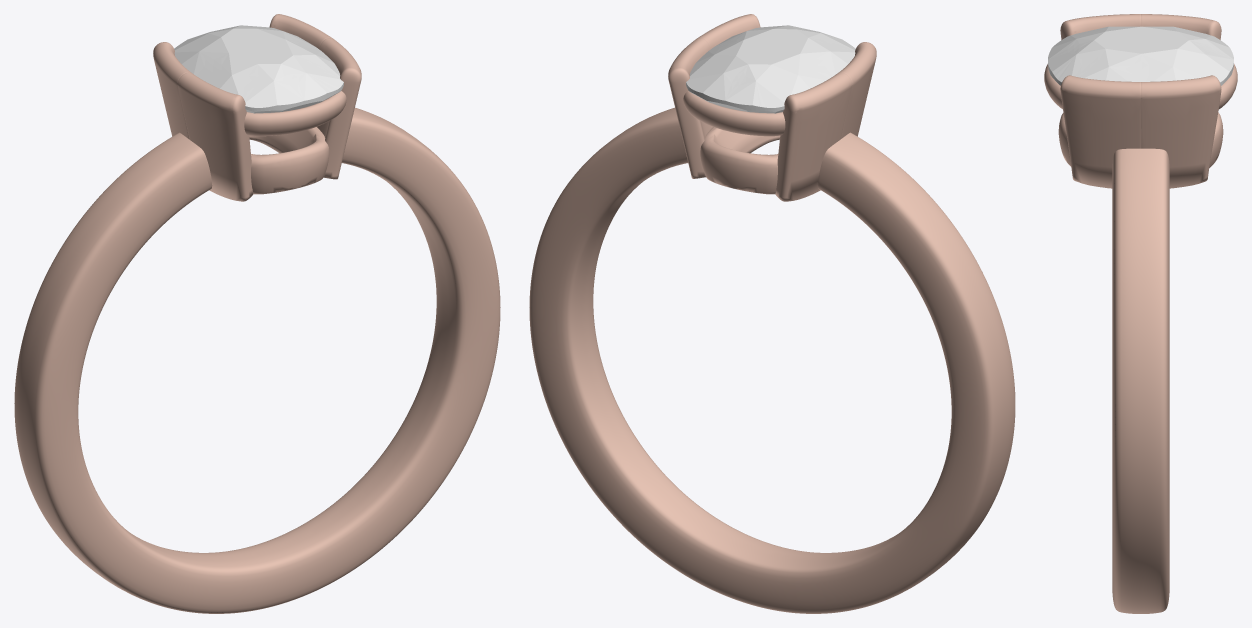
Rendered from diamond-cushion-rosegold-halfmoonbezel-straightband-nosidestones.glb.
3 views of the same model, side by side, from view 1: azimuth 30°, elevation 25°; view 2: azimuth 150°, elevation 25°; view 3: azimuth 270°, elevation 25° (orthographic).
Visible parts, largest first — view 1: metal, stone; view 2: metal, stone; view 3: metal, stone.
Part boxes in pixels (box(x1,y1,x2,y2)): metal: box(14, 14, 500, 613); stone: box(174, 25, 343, 113); metal: box(529, 14, 1015, 613); stone: box(686, 25, 855, 113); metal: box(1044, 14, 1237, 613); stone: box(1048, 26, 1233, 85).
Size of the model in its own units: 20.49 by 23.24 by 7.42.
